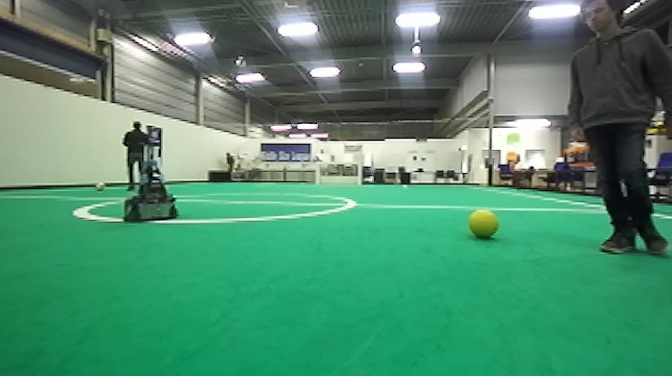ball: (465, 206, 500, 242), (93, 180, 106, 190)
goal: (315, 159, 361, 187)
goalpost: (314, 160, 321, 186), (356, 160, 362, 185)
human: (563, 1, 672, 259), (120, 118, 156, 200)
robot: (119, 139, 181, 225)
